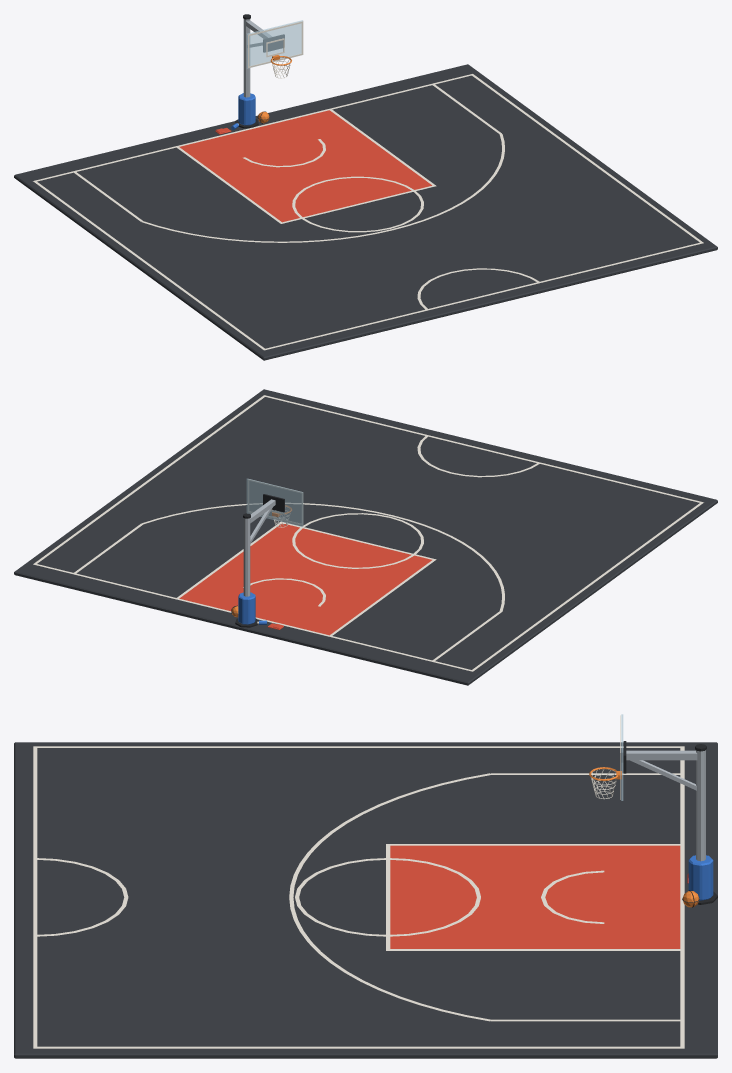
The model's file is basketball-half-court.glb.
3 views of the same model, one above another, from view 1: azimuth 30°, elevation 25°; view 2: azimuth 150°, elevation 25°; view 3: azimuth 270°, elevation 25° (orthographic). The views are drawn at different scales.
Parts seen in each view (by area): view 1: CourtSlab, KeyPaint, CourtLines, Backboard; view 2: CourtSlab, KeyPaint, CourtLines, Backboard, Pole, PolePad; view 3: CourtSlab, KeyPaint, CourtLines, Pole, PolePad, HoopArm.
Part boxes in pixels (x1,y1,x2,y2): CourtSlab: [14, 64, 717, 360]; KeyPaint: [179, 110, 431, 222]; CourtLines: [33, 74, 703, 350]; Backboard: [246, 20, 302, 68]; CourtSlab: [14, 389, 717, 685]; KeyPaint: [179, 523, 431, 635]; CourtLines: [33, 395, 703, 671]; Backboard: [246, 478, 303, 526]; Pole: [243, 518, 250, 596]; PolePad: [238, 592, 255, 624]; CourtSlab: [14, 742, 717, 1058]; KeyPaint: [390, 845, 680, 948]; CourtLines: [33, 746, 684, 1048]; Pole: [696, 750, 705, 861]; PolePad: [688, 855, 713, 900]; HoopArm: [626, 750, 697, 760].
Size of the model in its own units: 52 by 13.15 by 49.5.
